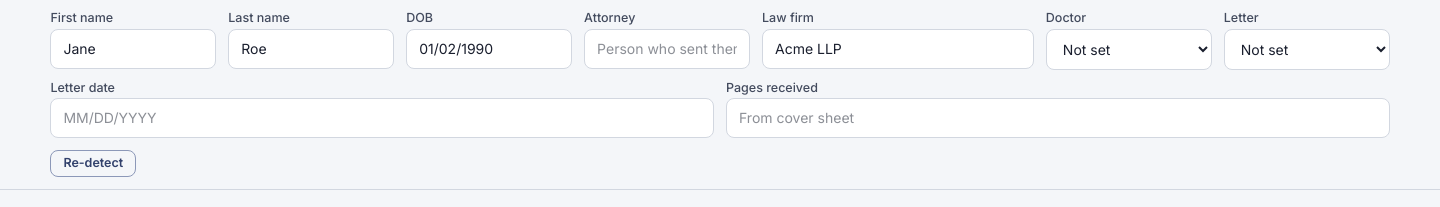
HeaderBar autosave (the reviewers asked for it, 2026-11-04) › saves a pause after the last keystroke, with no blur, and says so
This screenshot has width=1440, height=207.
In the field labelled "Attorney": (667, 49) [584,28,750,69], type "Reyes"
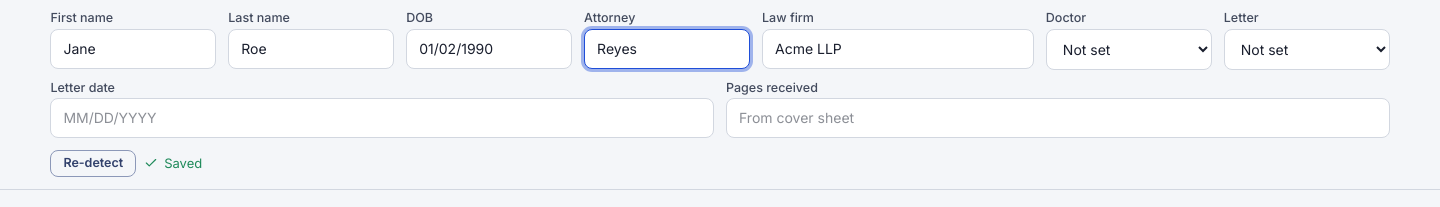
Result: the text "Saved" is shown at [144,156,202,170]
